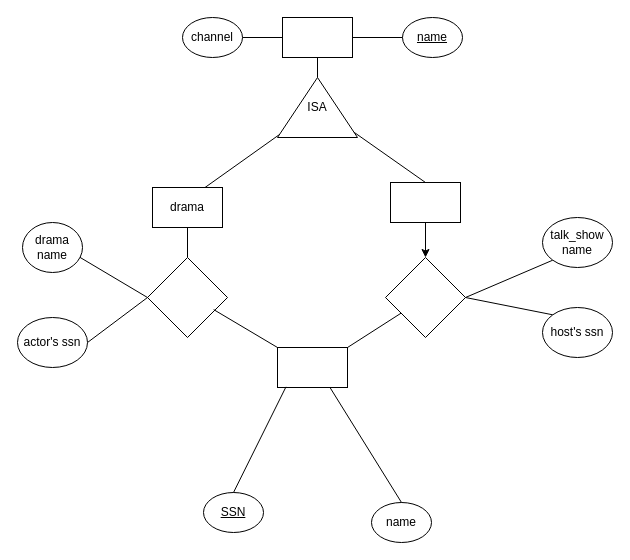
This 630x560 diagram has some shape labels left out. The box of each missing label's shape, as (x1, y1, x2, y2) in pixels:
actors: (146, 256, 228, 338)
host: (384, 256, 466, 338)
person: (276, 346, 348, 388)
talk_show: (390, 182, 460, 222)
tv_show: (282, 16, 352, 58)
